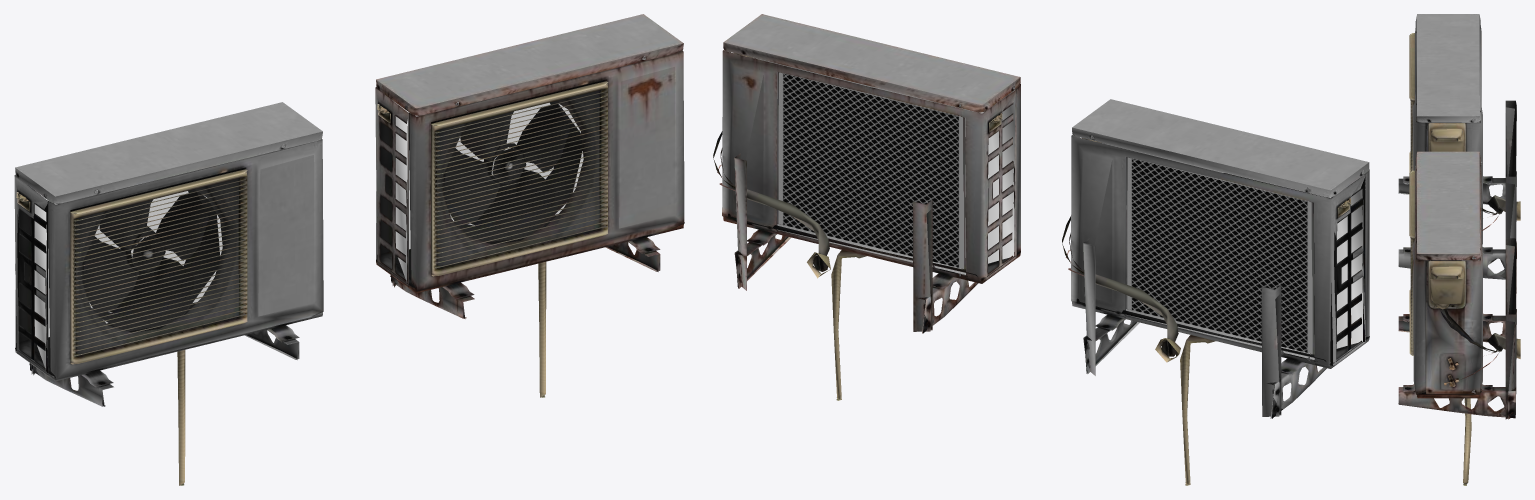
File: exterior_aircon_unit.gltf
3 renders of one model, left to right at view 1: azimuth 30°, elevation 25°; view 2: azimuth 150°, elevation 25°; view 3: azimuth 270°, elevation 25°, orthographic. The views are drawn at different scales.
Parts seen in each view (by area): view 1: exterior_aircon_unit; view 2: exterior_aircon_unit; view 3: exterior_aircon_unit.
Boxes of the visible parts, x1,y1,x2,y2 form: exterior_aircon_unit: (14,14,684,485); exterior_aircon_unit: (713,14,1369,485); exterior_aircon_unit: (1398,14,1520,485).
Size of the model in its own units: 1.8 by 0.9265 by 0.3748.
4 materials, 4 textured.
